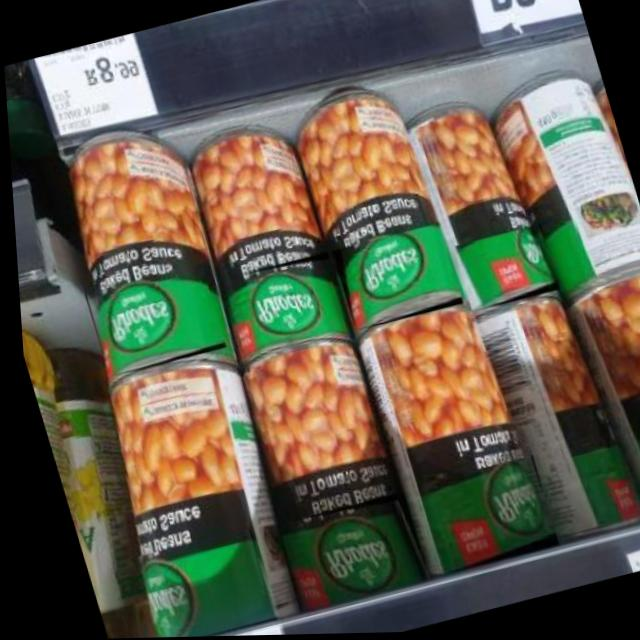Beans: (269, 489, 425, 611), (407, 454, 554, 576), (78, 261, 225, 378), (122, 525, 271, 638), (326, 223, 461, 332), (212, 251, 347, 357), (447, 224, 559, 315)
